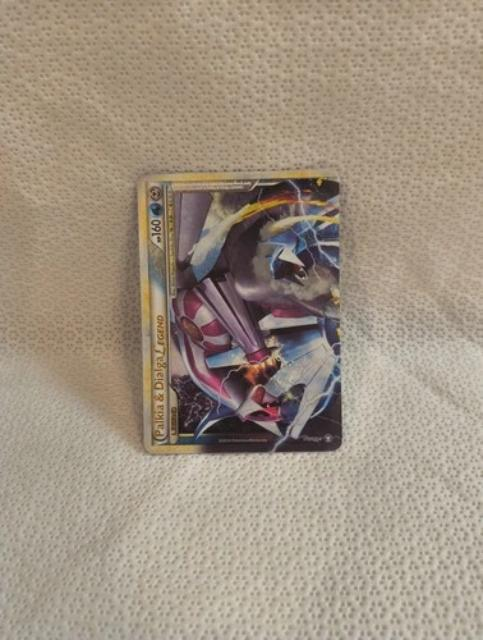Card: (134, 166, 346, 458)
Name: (152, 306, 170, 440)
